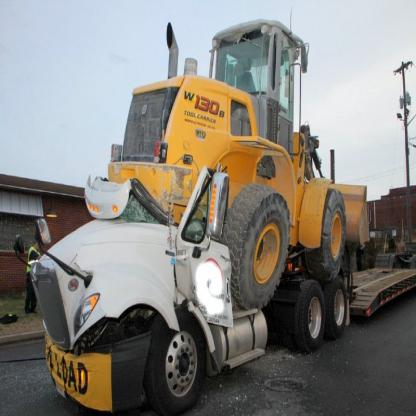bull_dozer/loader/grader: (111, 2, 376, 278)
